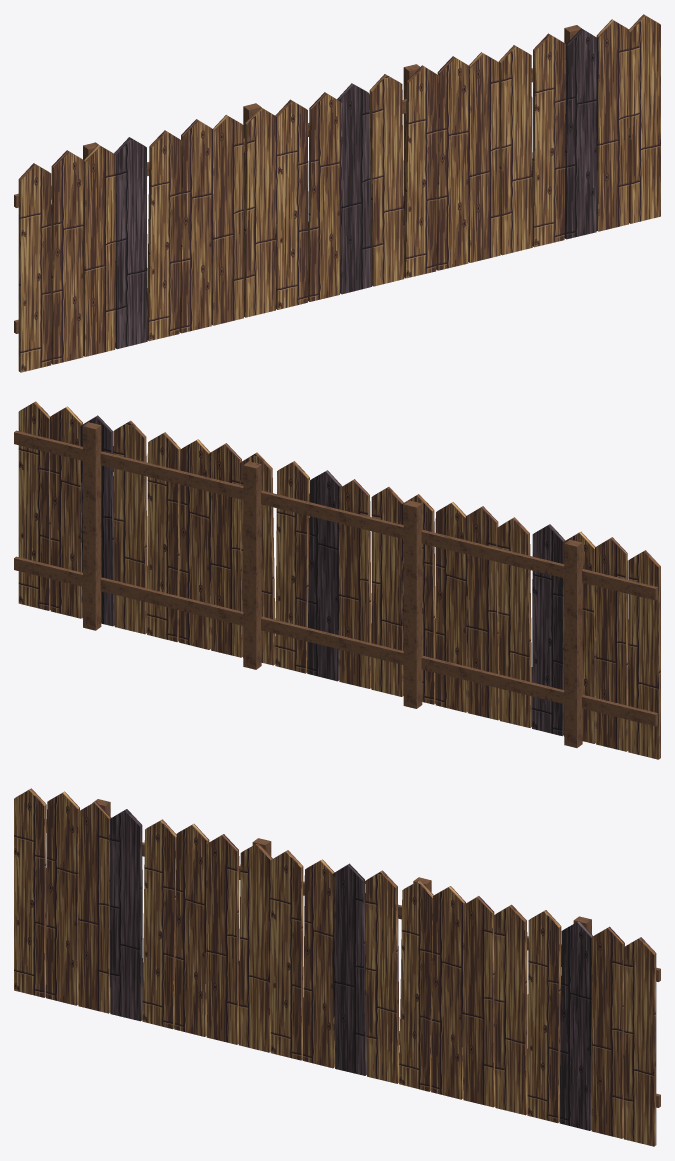
The model's file is border_fence_straight.glb.
3 renders of one model, top to bottom at view 1: azimuth 30°, elevation 25°; view 2: azimuth 150°, elevation 25°; view 3: azimuth 330°, elevation 25°, orthographic.
Parts seen in each view (by area): view 1: Border; view 2: Border; view 3: Border.
Boxes of the visible parts, box(x1,y1,x2,y2) form: Border: box(14, 14, 660, 372); Border: box(14, 401, 660, 759); Border: box(14, 788, 660, 1146).
Bounding box in the file's own units: 8 × 2.49 × 0.235.
3 materials, 3 textured.
